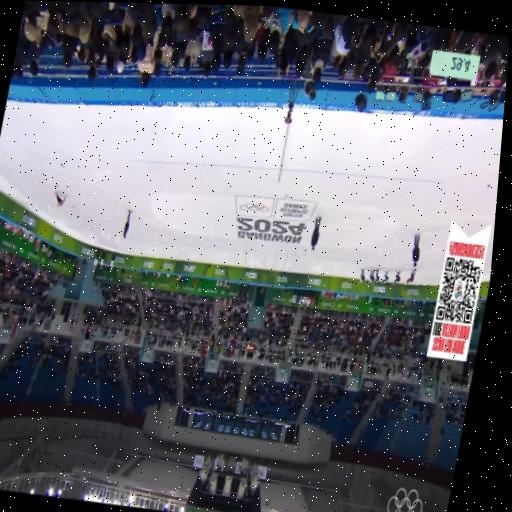Skater: (52, 190, 67, 210), (391, 268, 403, 286), (371, 268, 382, 287), (366, 268, 377, 287), (357, 267, 368, 286), (406, 268, 418, 285), (380, 269, 391, 286)
